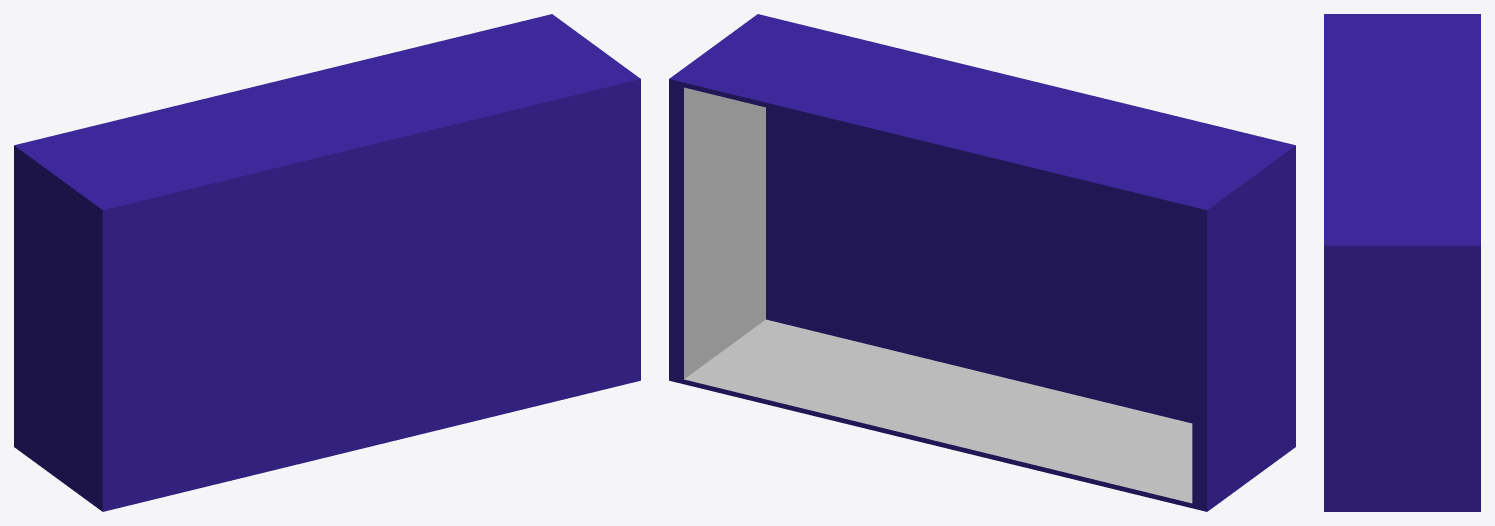
Rendered from BlueFloor.dae.
3 views of the same model, side by side, from view 1: azimuth 30°, elevation 25°; view 2: azimuth 150°, elevation 25°; view 3: azimuth 270°, elevation 25° (orthographic). The views are drawn at different scales.
Visible parts, largest first — view 1: ArenaWallsandFloor; view 2: ArenaWallsandFloor; view 3: ArenaWallsandFloor.
Boxes of the visible parts, box(x1,y1,x2,y2) form: ArenaWallsandFloor: box(14, 14, 640, 511); ArenaWallsandFloor: box(669, 14, 1295, 511); ArenaWallsandFloor: box(1324, 14, 1480, 511).
Size of the model in its own units: 28 by 8 by 15.
